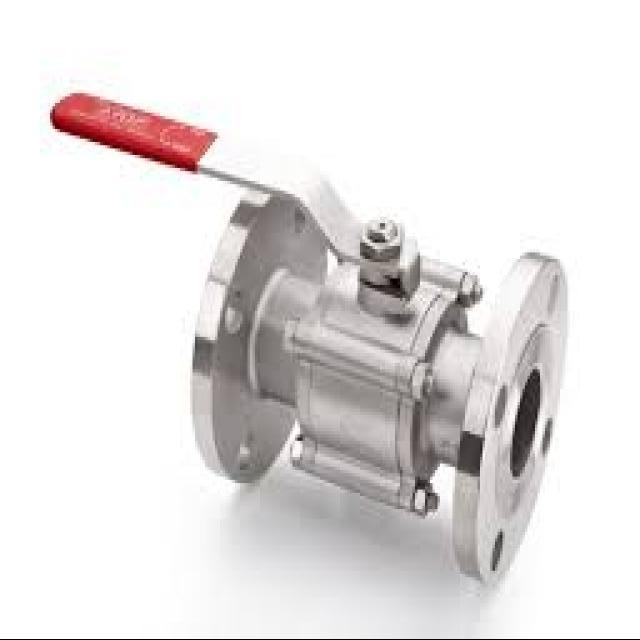opened valve: (46, 87, 572, 587)
